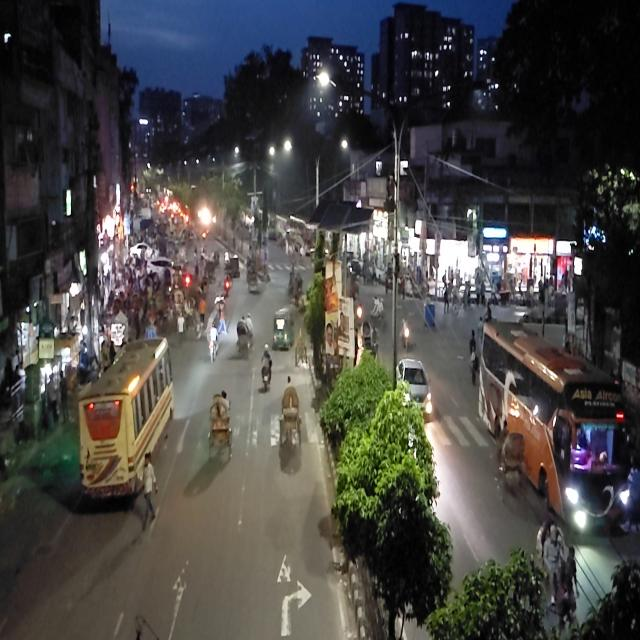silver: (396, 359, 435, 421)
